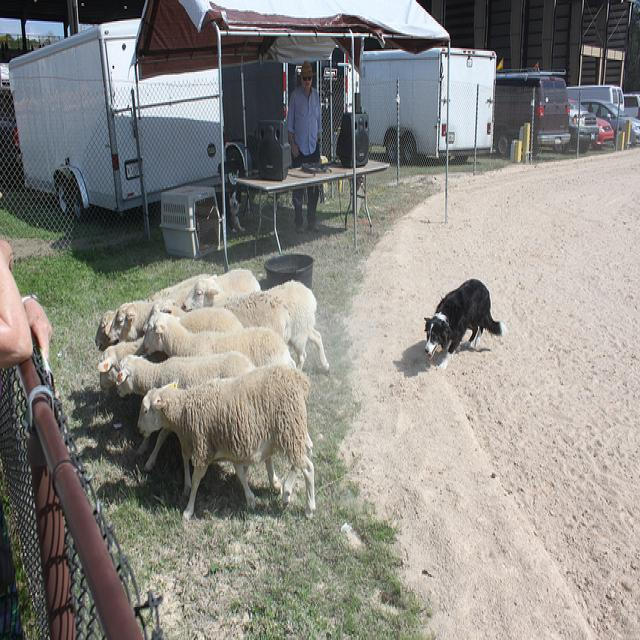Vehicle: (7, 14, 220, 221), (359, 50, 495, 168), (493, 69, 571, 158), (495, 76, 573, 158), (0, 64, 23, 183), (581, 99, 640, 142), (552, 102, 600, 154), (567, 85, 625, 113), (591, 119, 614, 150), (624, 95, 640, 120), (624, 95, 640, 118)
